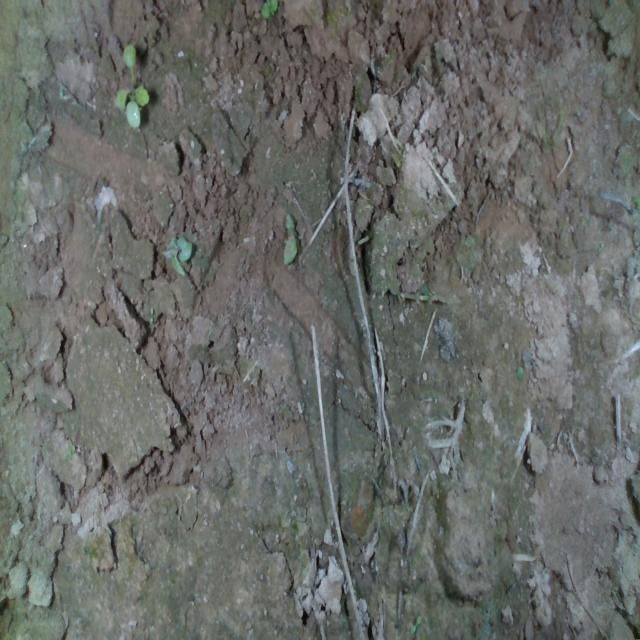weed: (114, 42, 150, 128)
